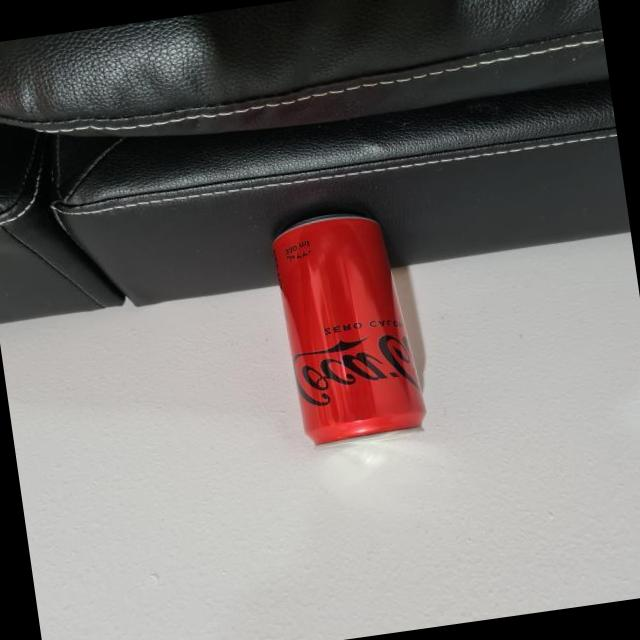Kaleng: (267, 204, 430, 454)
